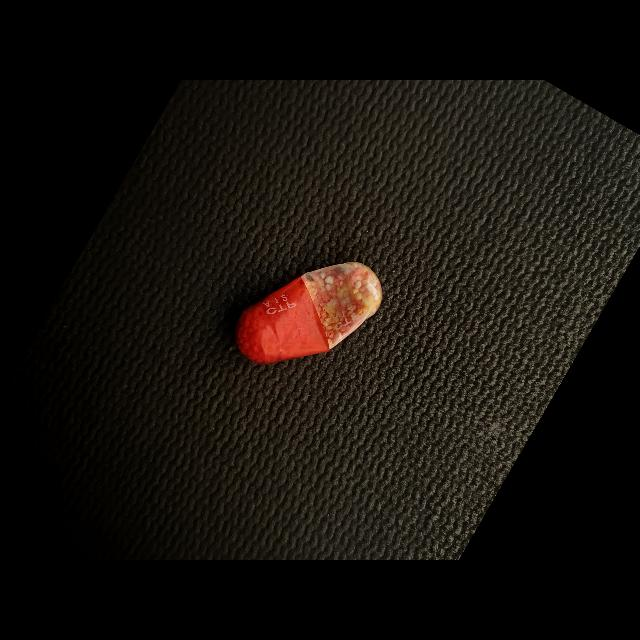Defective Capsule: (235, 262, 382, 365)
